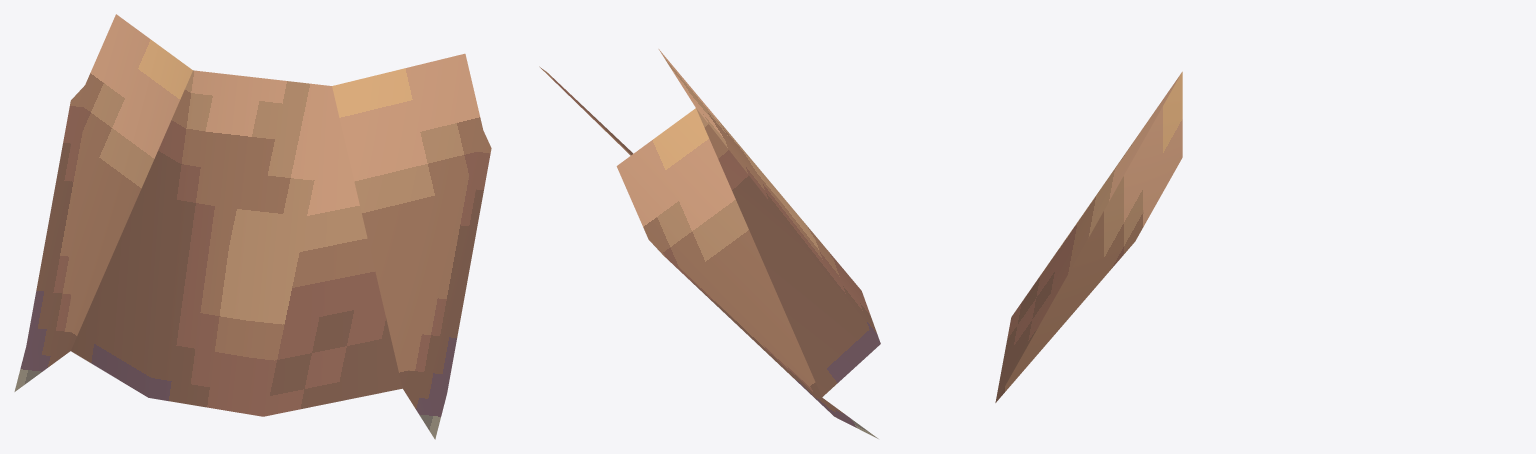
The picture shows the model from 3 angles, left to right: view 1: azimuth 30°, elevation 25°; view 2: azimuth 150°, elevation 25°; view 3: azimuth 270°, elevation 25°; orthographic projection. The views are drawn at different scales.
Size of the model in its own units: 1.5 by 0.9971 by 1.5.
Materials: 2 (2 with a texture image).
